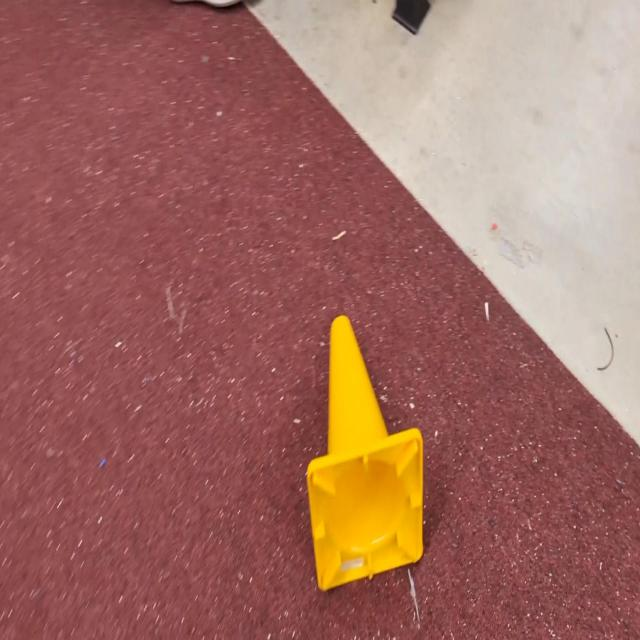frc_cone: (306, 315, 424, 590)
